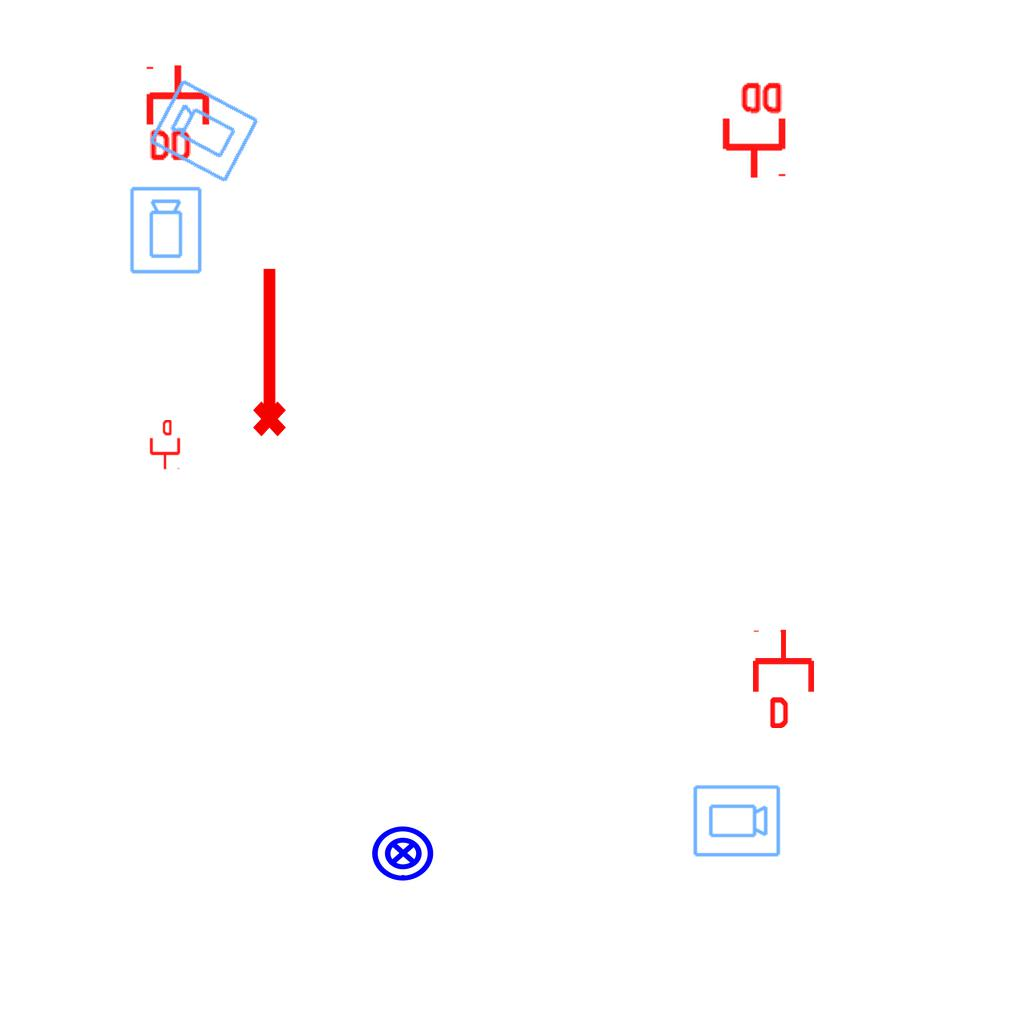ASR_Ansaugoeffnung: (244, 263, 290, 439)
Datenanschluss_einfach: (749, 628, 818, 728), (148, 420, 182, 470)
Datenanschluss_zweifach: (718, 78, 787, 181), (145, 62, 214, 165)
KFO_Kamera_mit_Festobjektiv: (146, 75, 263, 186), (691, 783, 782, 860), (128, 185, 205, 276)
Taster_beleuchtet: (370, 820, 436, 886)
